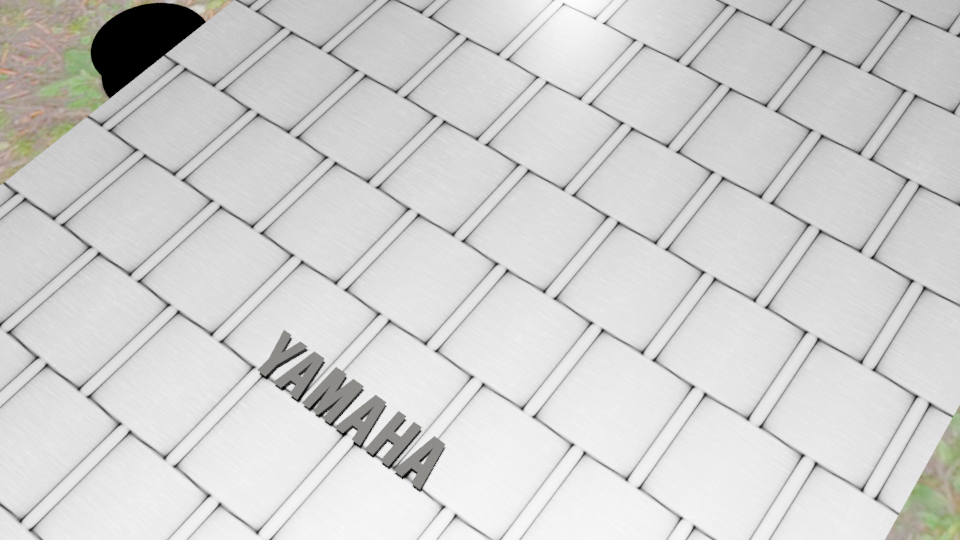yamaha_letters: (256, 329, 446, 490)
